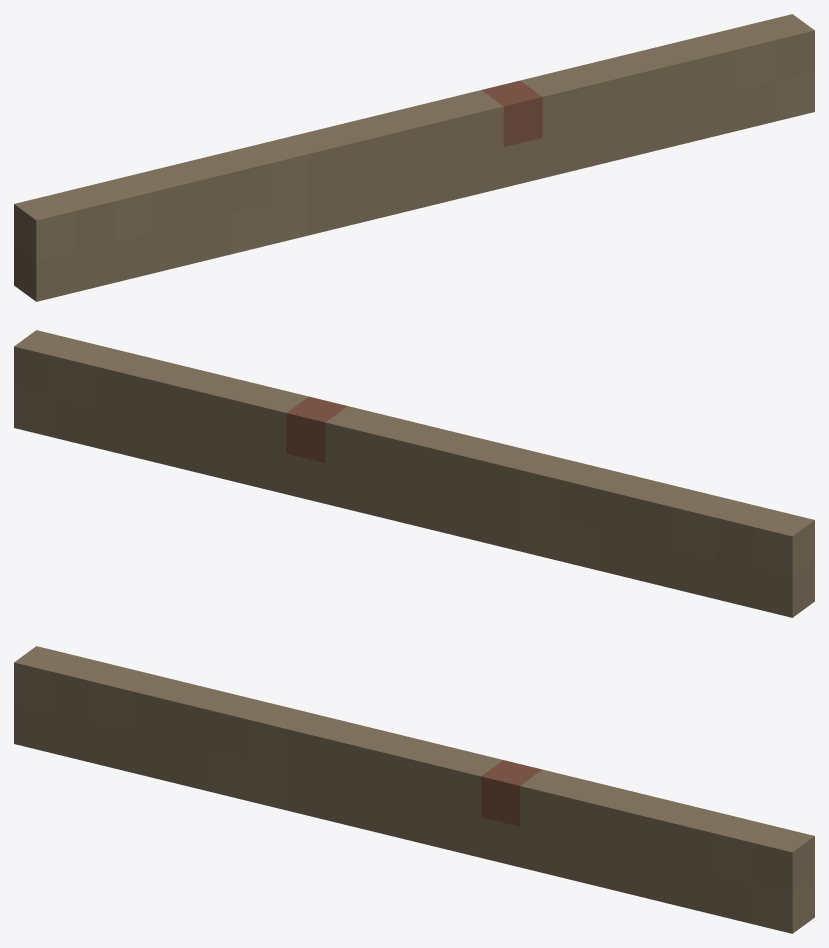
File: Gauge_Flesh_Thin_Full.002.fbx
The picture shows the model from 3 angles, top to bottom: view 1: azimuth 30°, elevation 25°; view 2: azimuth 150°, elevation 25°; view 3: azimuth 330°, elevation 25°; orthographic projection.
Visible parts, largest first — view 1: Gauge_Flesh_Thin_Full.002; view 2: Gauge_Flesh_Thin_Full.002; view 3: Gauge_Flesh_Thin_Full.002.
Boxes of the visible parts, left/top/right/bottom form: Gauge_Flesh_Thin_Full.002: left=14, top=14, right=814, bottom=301; Gauge_Flesh_Thin_Full.002: left=14, top=330, right=814, bottom=617; Gauge_Flesh_Thin_Full.002: left=14, top=646, right=814, bottom=933.
Size of the model in its own units: 2 by 0.2 by 0.1.
